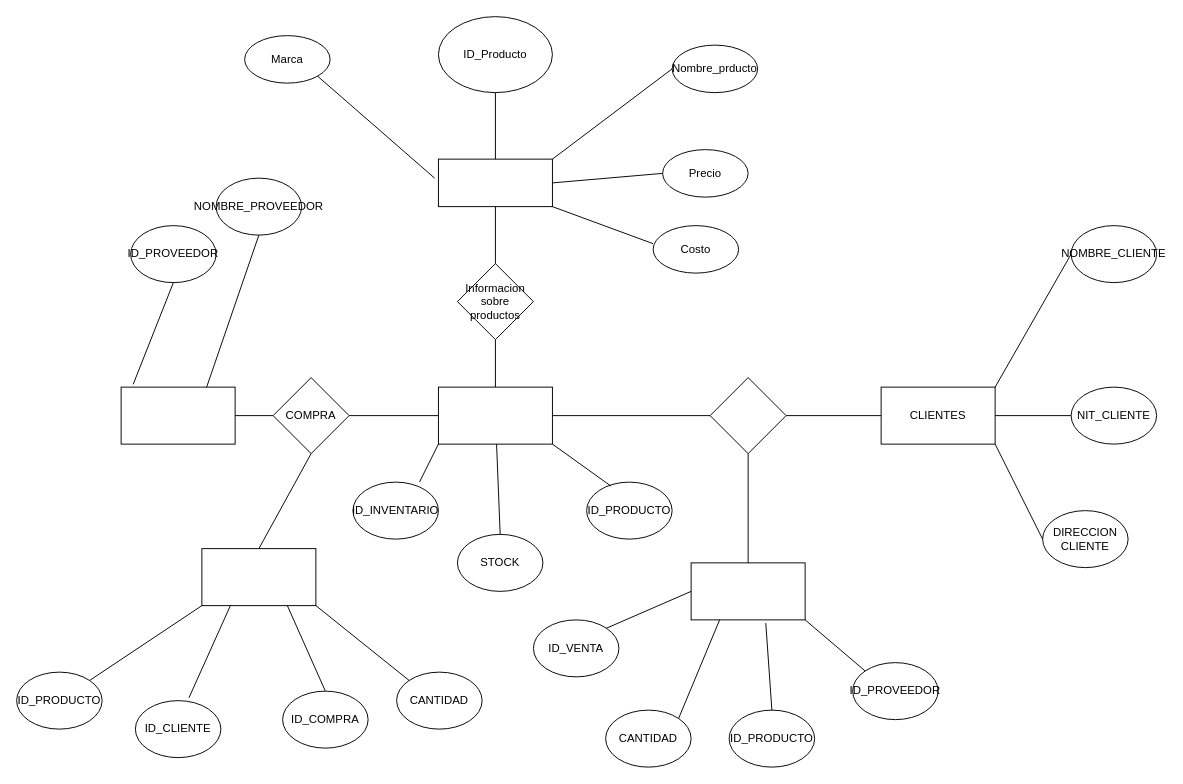
Some shapes in this 1183 by 784 pixel diagram are drawn without their labels. The shapes that lost their labels are listed below. From the top down, each one's centre as x and y in pixels, then its label:
the point at 494,182: Productos
the point at 177,415: PROVEEDORES
the point at 494,415: INVENTARIO
the point at 747,415: VENTA
the point at 258,577: COMPRAS
the point at 747,591: VENTAS
